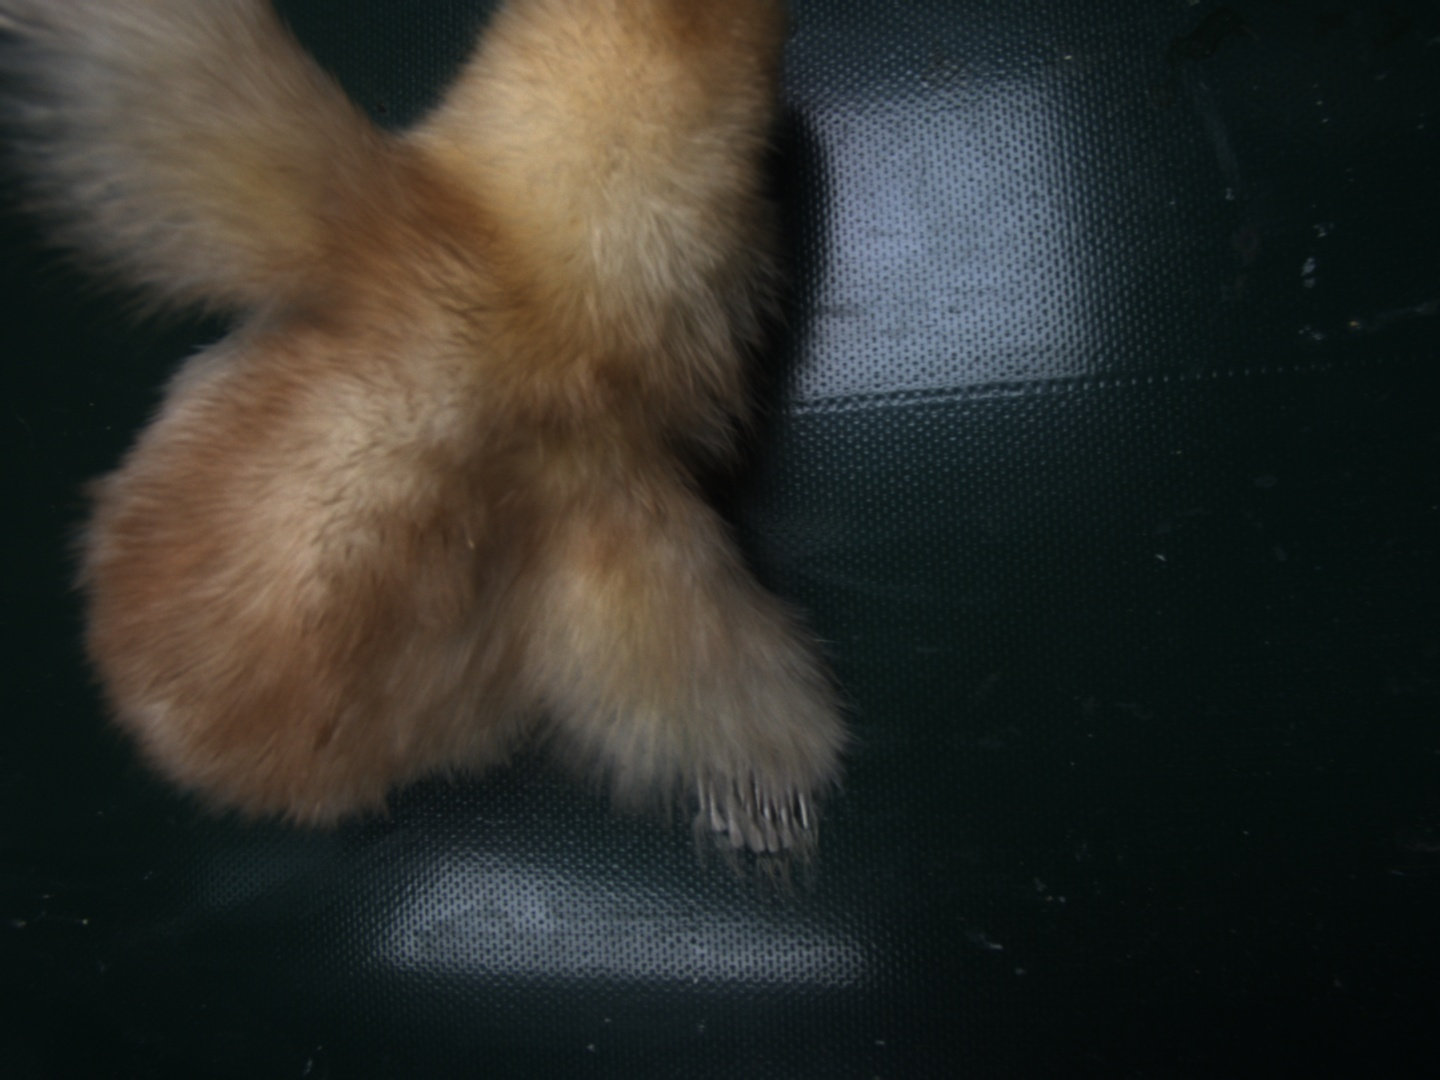female: (695, 763, 816, 861)
